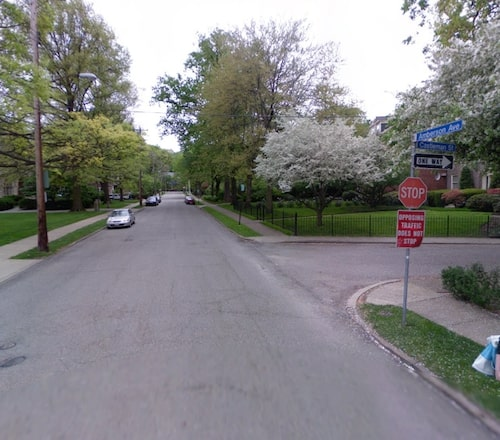StopSign: (397, 176, 428, 209)
